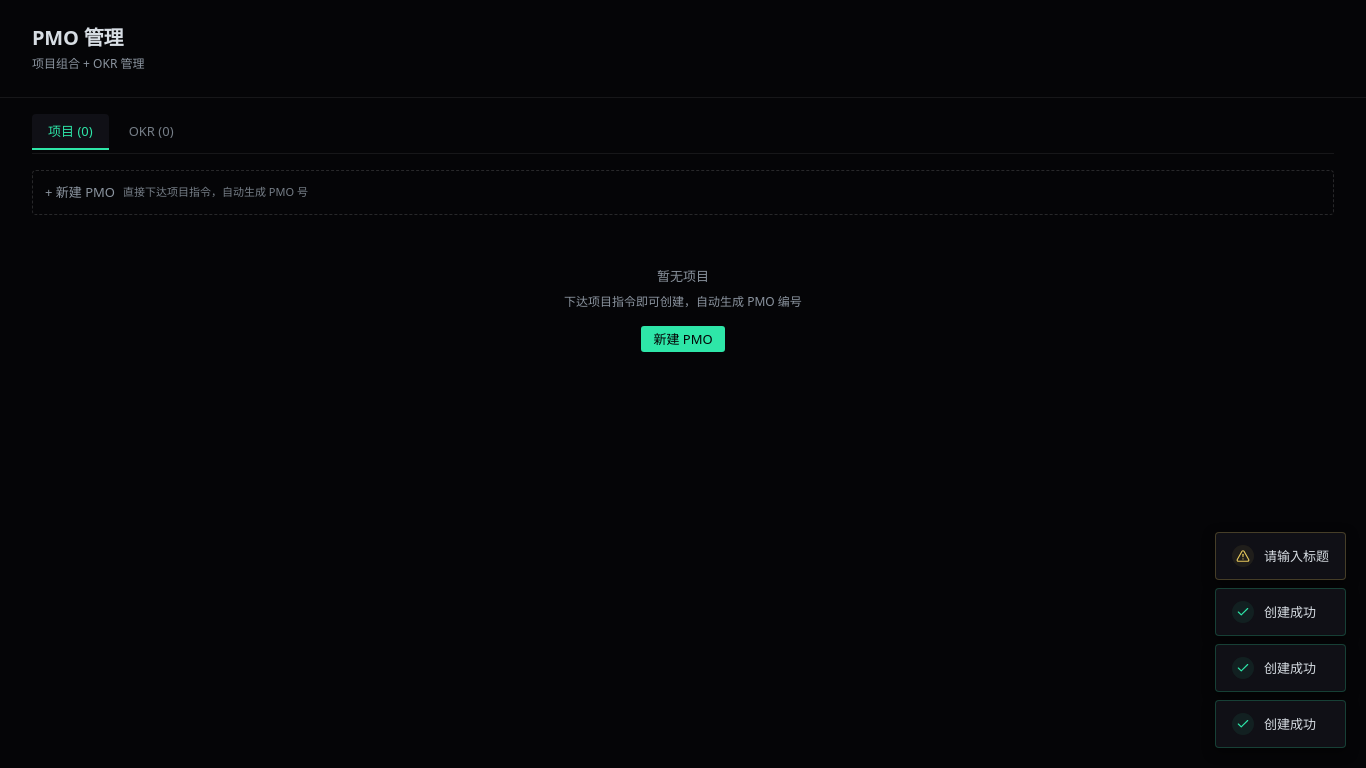
Test: PMO-a: 新建 PMO 表单 › D-3 项1：零项目空态 = 说明 + 主行动按钮，点击就地开新建弹窗
The width and height of the screenshot is (1366, 768).
Expected: the text "暂无项目" is shown, 657,266 -> 709,284
// 空态内主行动按钮 → 打开 CreateProjectDialog（与「+ 新建 PMO」虚线块同一入口）
Click the button "新建 PMO": {"x": 683, "y": 339} 641,326 -> 725,352
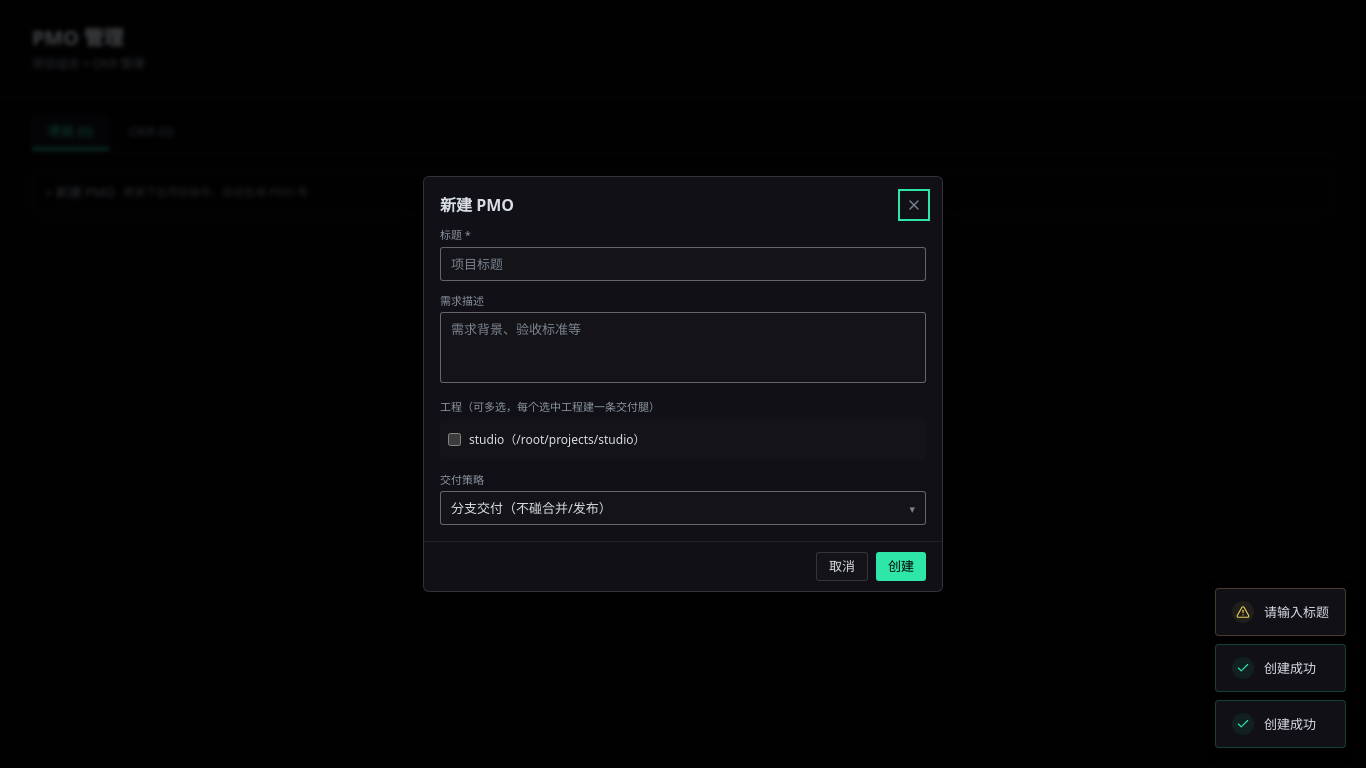
Result: the field with placeholder "项目标题" is shown at 440,247 -> 926,281
